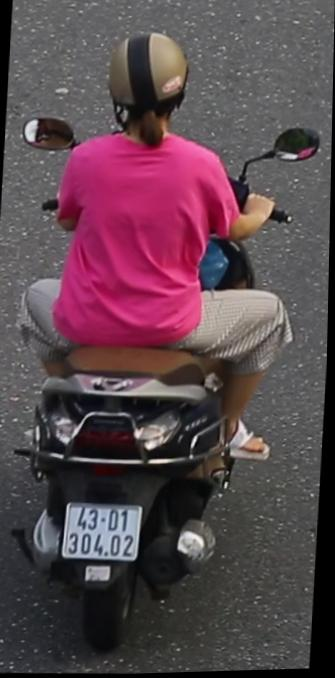LP: (60, 490, 149, 570)
helmet: (95, 27, 196, 156)
